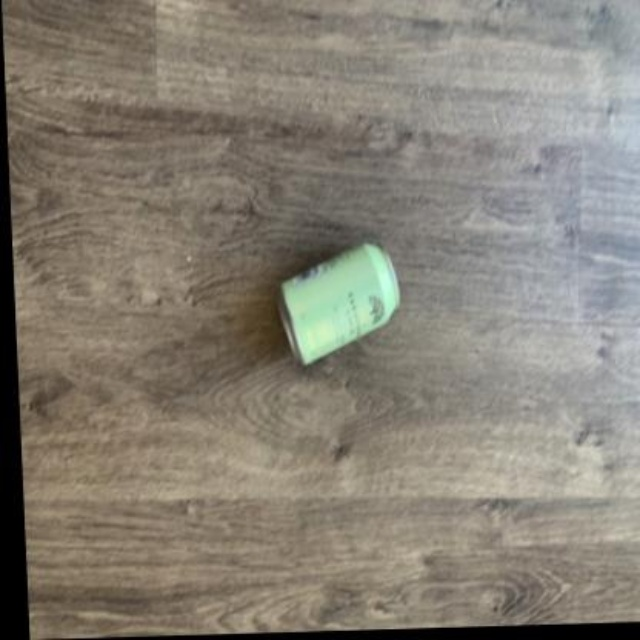trash: (278, 245, 398, 363)
